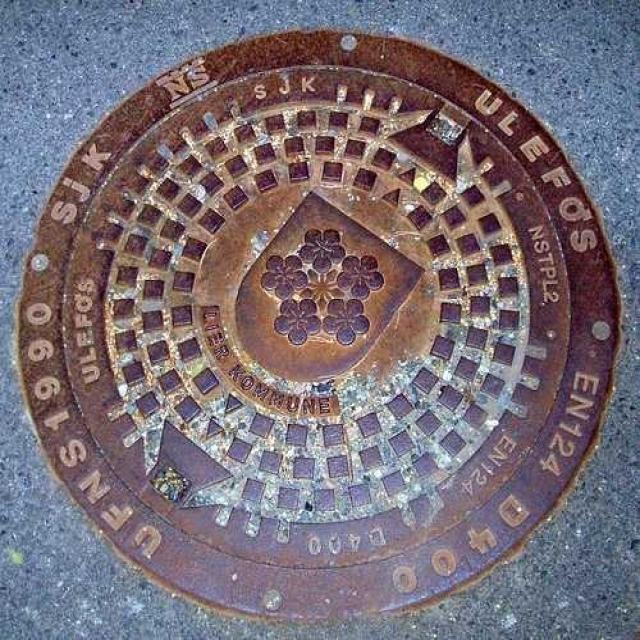manhole: (16, 29, 620, 619)
